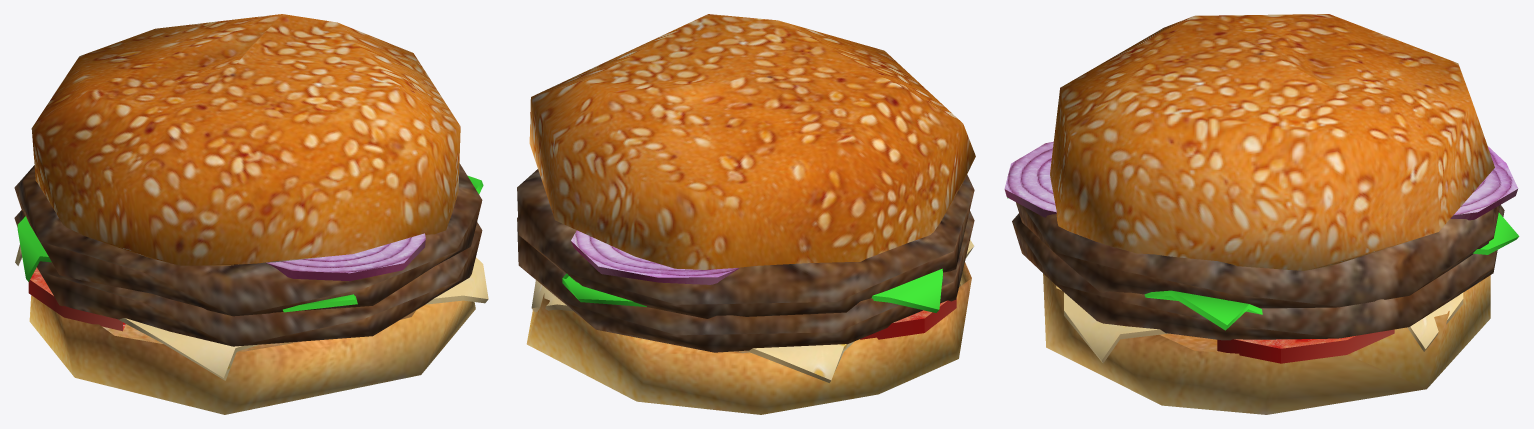
The model's file is burger_mega.fbx.
3 renders of one model, left to right at view 1: azimuth 30°, elevation 25°; view 2: azimuth 150°, elevation 25°; view 3: azimuth 270°, elevation 25°, orthographic. The views are drawn at different scales.
Parts seen in each view (by area): view 1: burger_bun_01_LOD00, burger_bun_04_LOD00, chopped_steak__LOD00.001, chopped_steak__LOD00, onion_LOD00.001, cheese_LOD00, cheese_LOD00.001, tomatoe_LOD00.001; view 2: burger_bun_01_LOD00, burger_bun_04_LOD00, chopped_steak__LOD00.001, chopped_steak__LOD00, onion_LOD00, cheese_LOD00, cheese_LOD00.001, tomatoe_LOD00.001; view 3: burger_bun_01_LOD00, burger_bun_04_LOD00, chopped_steak__LOD00.001, chopped_steak__LOD00, cheese_LOD00, tomatoe_LOD00, onion_LOD00.001, cheese_LOD00.001, onion_LOD00.
Boxes of the visible parts, box(x1,y1,x2,y2) form: burger_bun_01_LOD00: box(31, 14, 460, 265); burger_bun_04_LOD00: box(29, 295, 475, 414); chopped_steak__LOD00.001: box(14, 163, 482, 316); chopped_steak__LOD00: box(14, 210, 482, 346); onion_LOD00.001: box(266, 233, 425, 281); cheese_LOD00: box(15, 245, 488, 380); cheese_LOD00.001: box(17, 175, 483, 312); tomatoe_LOD00.001: box(28, 267, 125, 331); burger_bun_01_LOD00: box(529, 14, 975, 269); burger_bun_04_LOD00: box(526, 262, 971, 414); chopped_steak__LOD00.001: box(517, 169, 974, 318); chopped_steak__LOD00: box(517, 211, 974, 352); onion_LOD00: box(571, 230, 738, 284); cheese_LOD00: box(531, 240, 973, 382); cheese_LOD00.001: box(562, 268, 942, 312); tomatoe_LOD00.001: box(860, 298, 956, 339); burger_bun_01_LOD00: box(1050, 14, 1494, 270); burger_bun_04_LOD00: box(1043, 273, 1490, 414); chopped_steak__LOD00.001: box(1016, 202, 1499, 308); chopped_steak__LOD00: box(1012, 205, 1504, 340); cheese_LOD00: box(1064, 292, 1463, 363); tomatoe_LOD00: box(1217, 329, 1394, 363); onion_LOD00.001: box(1004, 141, 1056, 217); cheese_LOD00.001: box(1007, 197, 1519, 330); onion_LOD00: box(1450, 146, 1518, 220).
Bounding box in the file's own units: 14.95 × 8.51 × 15.37.
